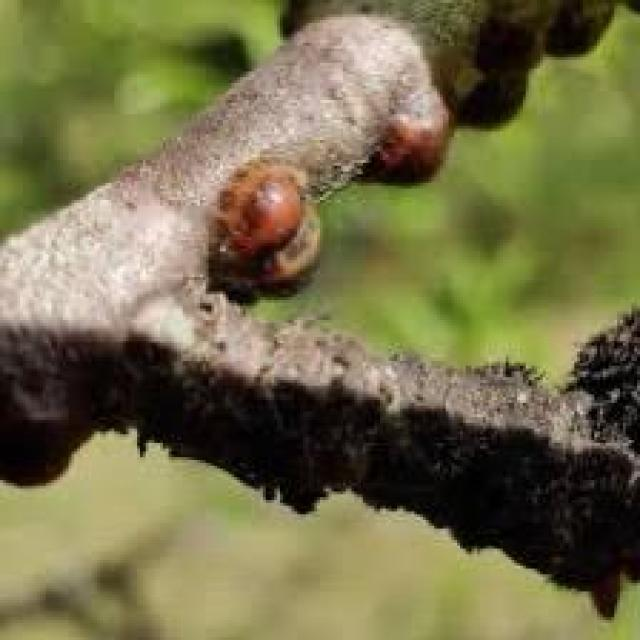BlackScale: (362, 0, 632, 183), (212, 163, 324, 300)
